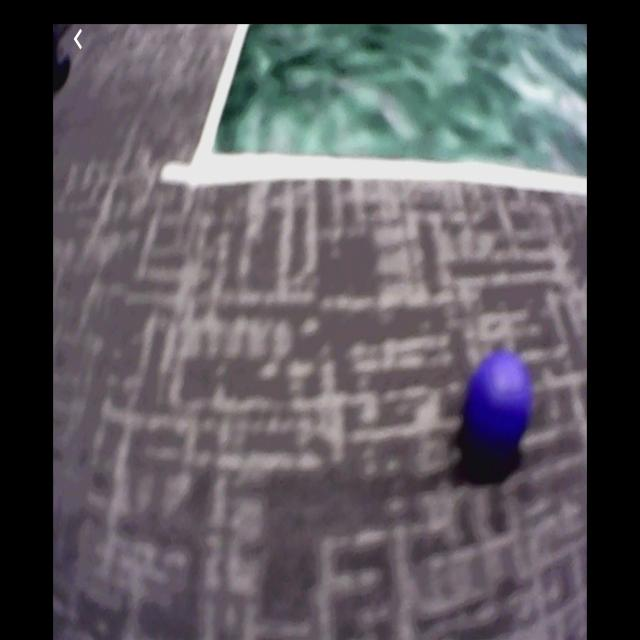ball: (465, 347, 532, 456)
